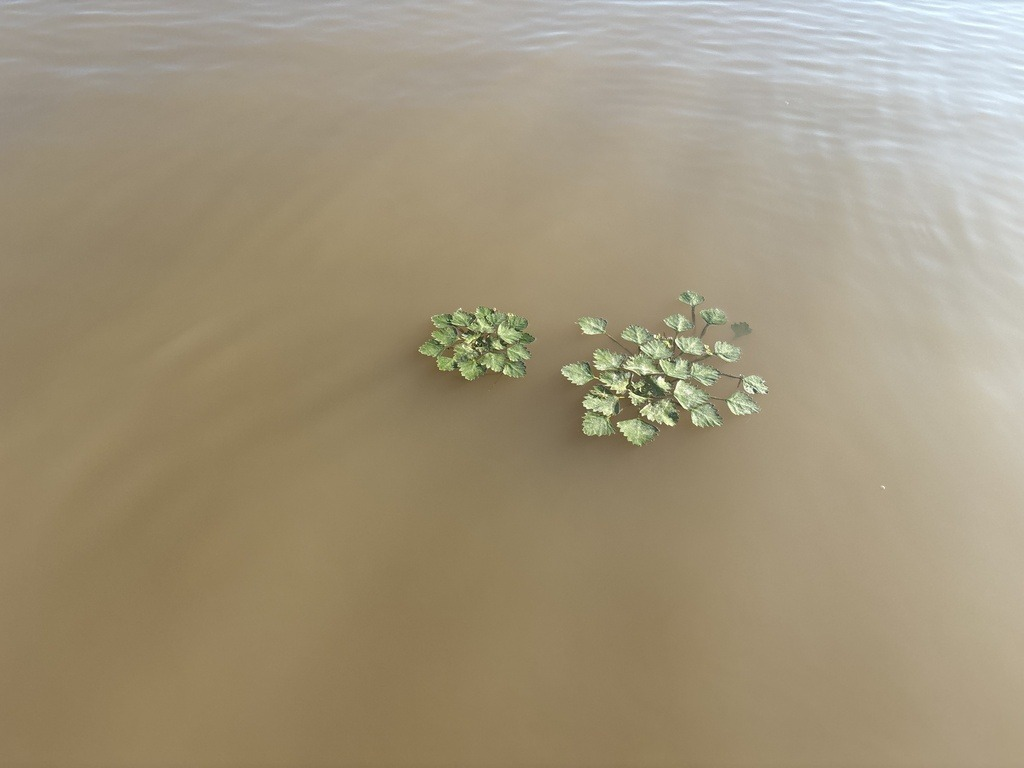water chestnut: (560, 287, 771, 448), (417, 303, 536, 383)
